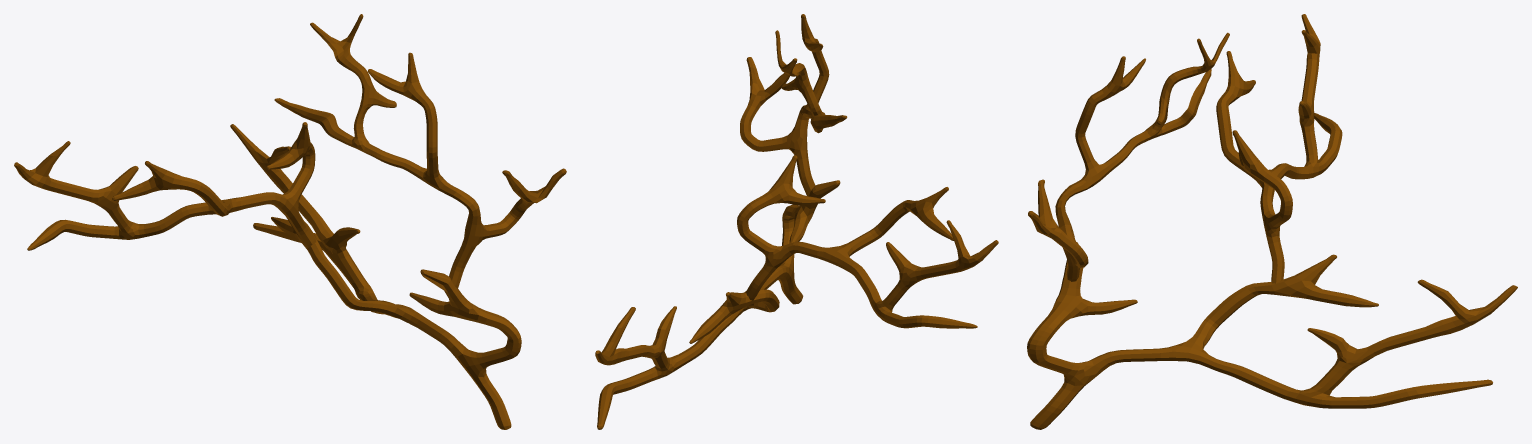
File: Ramas.glb
The picture shows the model from 3 angles, left to right: view 1: azimuth 30°, elevation 25°; view 2: azimuth 150°, elevation 25°; view 3: azimuth 270°, elevation 25°; orthographic projection. The views are drawn at different scales.
Parts seen in each view (by area): view 1: Plane.001; view 2: Plane.001; view 3: Plane.001.
Part boxes in pixels (box(x1,y1,x2,y2)): Plane.001: box(14, 14, 566, 429); Plane.001: box(595, 14, 998, 429); Plane.001: box(1027, 14, 1517, 429).
Bounding box in the file's own units: 6.3 × 5.41 × 6.65.
